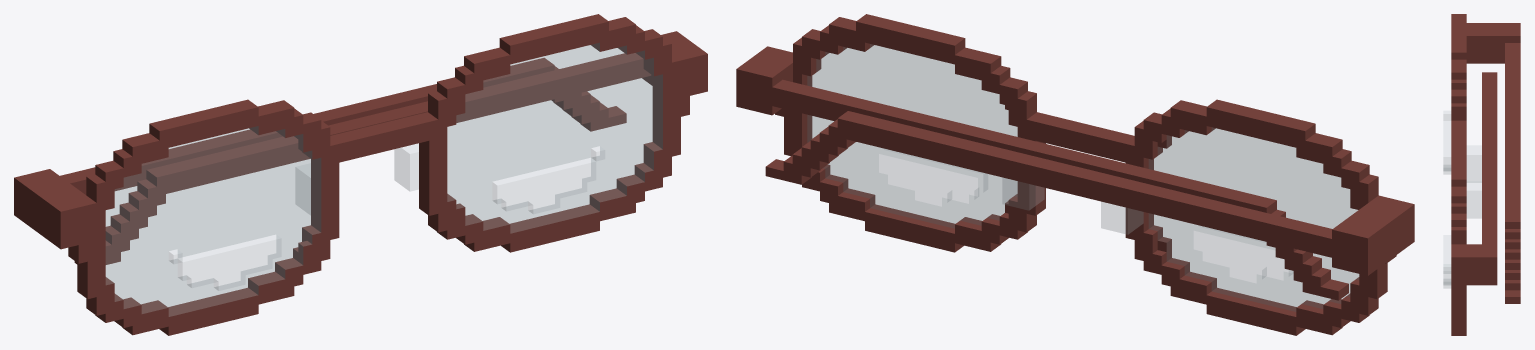
The model's file is glasses_bifocal.glb.
The picture shows the model from 3 angles, left to right: view 1: azimuth 30°, elevation 25°; view 2: azimuth 150°, elevation 25°; view 3: azimuth 270°, elevation 25°; orthographic projection. The views are drawn at different scales.
Visible parts, largest first — view 1: glasses_bifocal:compound; view 2: glasses_bifocal:compound; view 3: glasses_bifocal:compound.
Boxes of the visible parts, x1,y1,x2,y2 form: glasses_bifocal:compound: [14, 14, 707, 335]; glasses_bifocal:compound: [736, 14, 1414, 335]; glasses_bifocal:compound: [1443, 14, 1520, 335].
Size of the model in its own units: 0.144 by 0.044 by 0.02.
